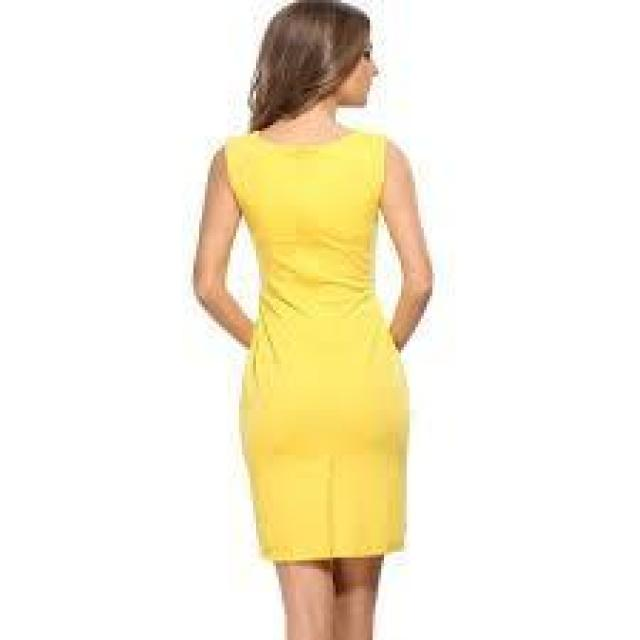dress: (220, 130, 414, 568)
